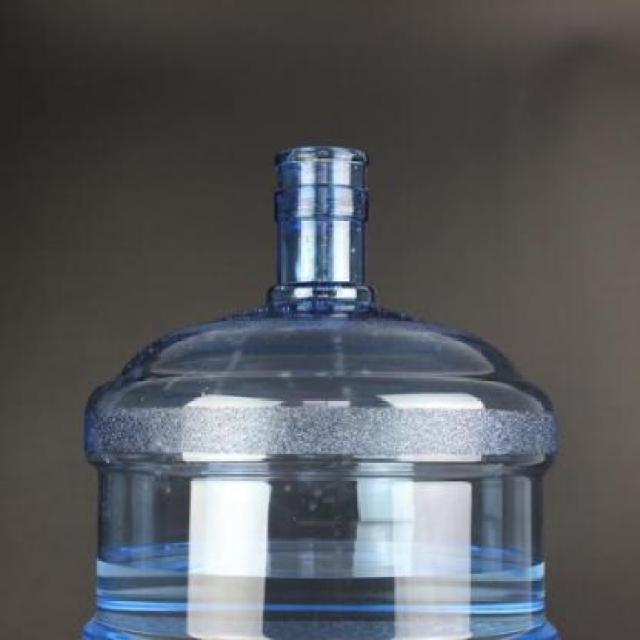coolerbottle: (81, 140, 564, 640)
